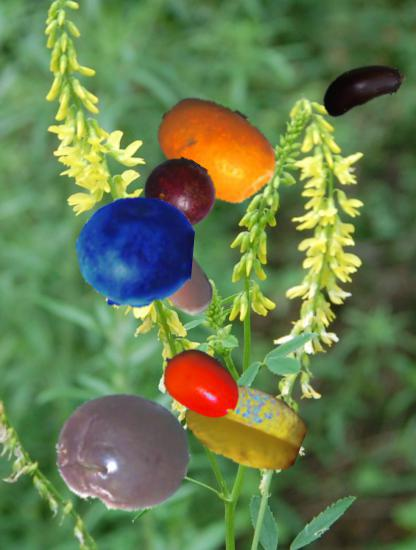Carambula: (185, 365, 306, 486)
Eggplant: (318, 44, 407, 133)
Hazelnut: (123, 218, 228, 323)
Huckleberry: (76, 193, 193, 310)
Kaki: (158, 340, 245, 427)
Kumquats: (154, 86, 280, 212)
Mangostan: (133, 157, 219, 243)
Passion: (53, 383, 190, 520)
